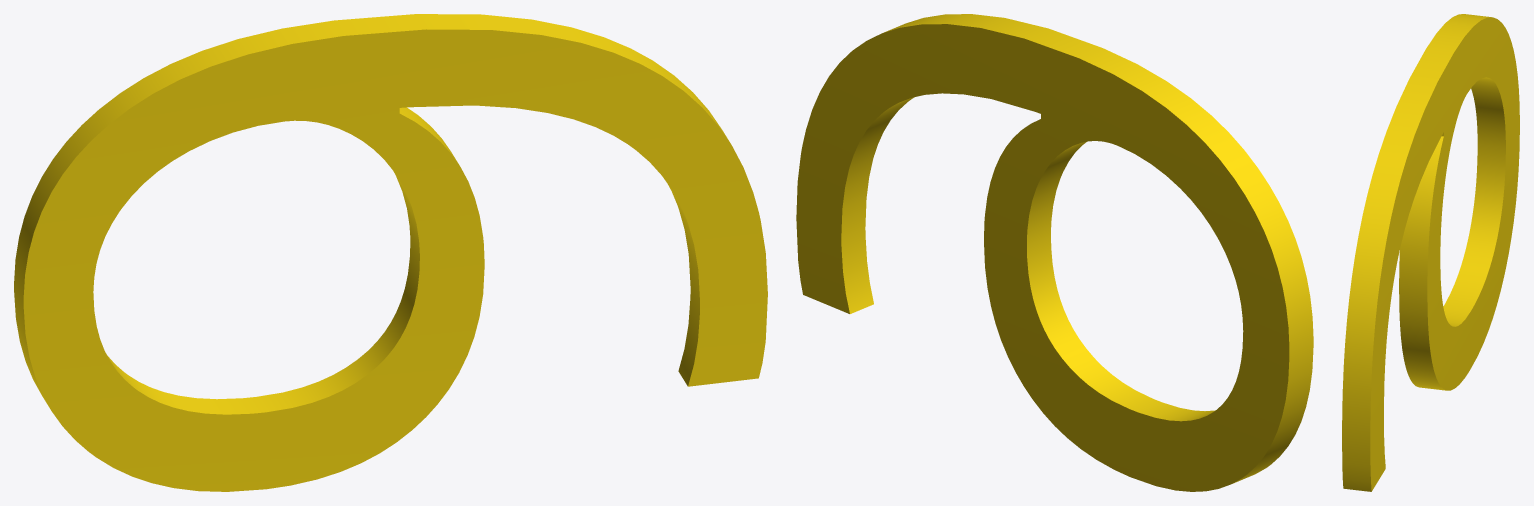
The model's file is Number_6.gltf.
3 views of the same model, side by side, from view 1: azimuth 30°, elevation 25°; view 2: azimuth 150°, elevation 25°; view 3: azimuth 270°, elevation 25° (orthographic). The views are drawn at different scales.
Parts seen in each view (by area): view 1: Sub_1_Cell_2_2_Number_6; view 2: Sub_1_Cell_2_2_Number_6; view 3: Sub_1_Cell_2_2_Number_6.
Boxes of the visible parts, box(x1,y1,x2,y2) form: Sub_1_Cell_2_2_Number_6: box(14, 14, 767, 491); Sub_1_Cell_2_2_Number_6: box(796, 14, 1313, 491); Sub_1_Cell_2_2_Number_6: box(1342, 14, 1519, 491).
Size of the model in its own units: 0.0254 by 0.0164 by 0.00771.
